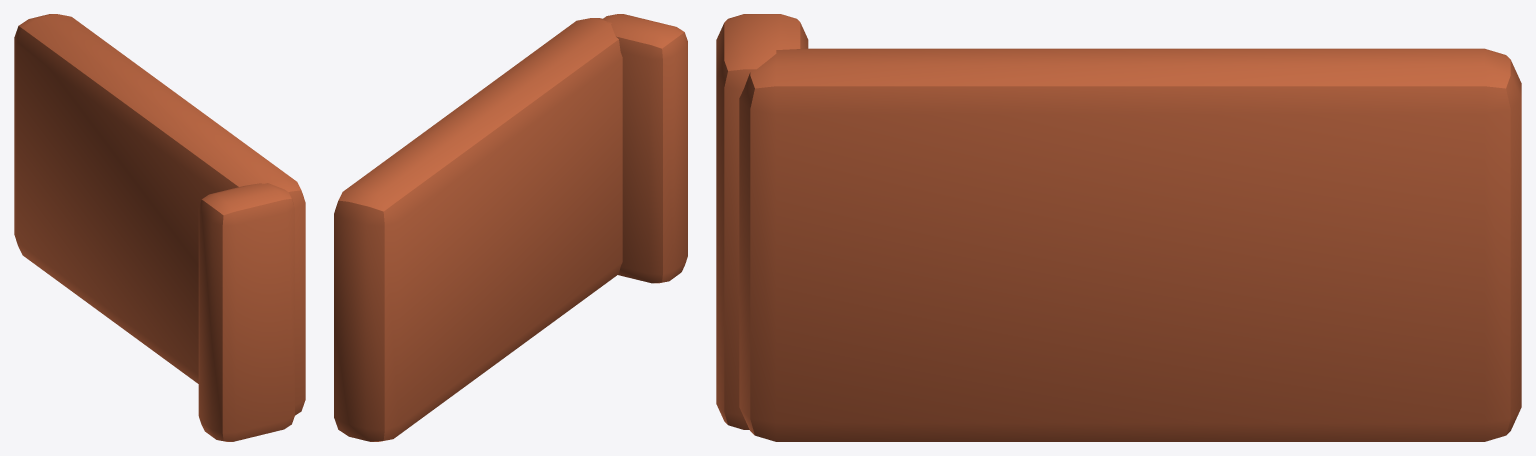
File: wet_dry_vacuum_right_latch.glb
3 renders of one model, left to right at view 1: azimuth 30°, elevation 25°; view 2: azimuth 150°, elevation 25°; view 3: azimuth 270°, elevation 25°, orthographic. The views are drawn at different scales.
Visible parts, largest first — view 1: wet_dry_vacuum_right_latch; view 2: wet_dry_vacuum_right_latch; view 3: wet_dry_vacuum_right_latch.
Boxes of the visible parts, box(x1,y1,x2,y2) form: wet_dry_vacuum_right_latch: box(14, 14, 305, 441); wet_dry_vacuum_right_latch: box(334, 14, 687, 441); wet_dry_vacuum_right_latch: box(716, 14, 1521, 441).
Size of the model in its own units: 0.02 by 0.045 by 0.0875.
